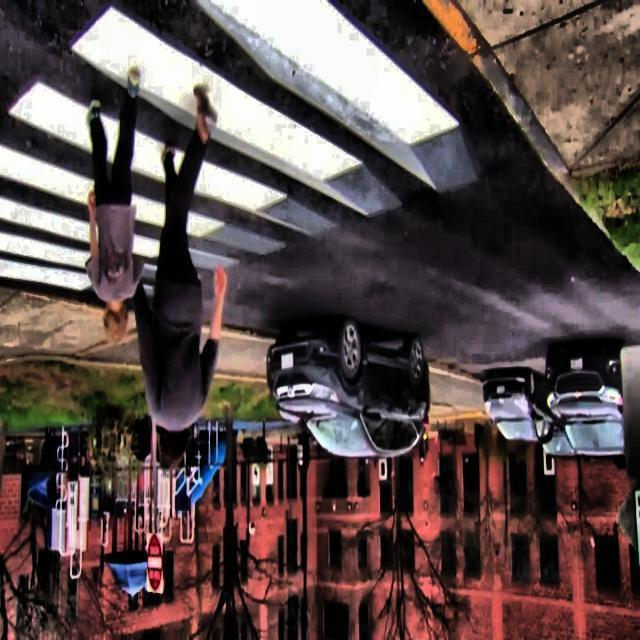intact_crosswalk: (0, 0, 462, 299)
